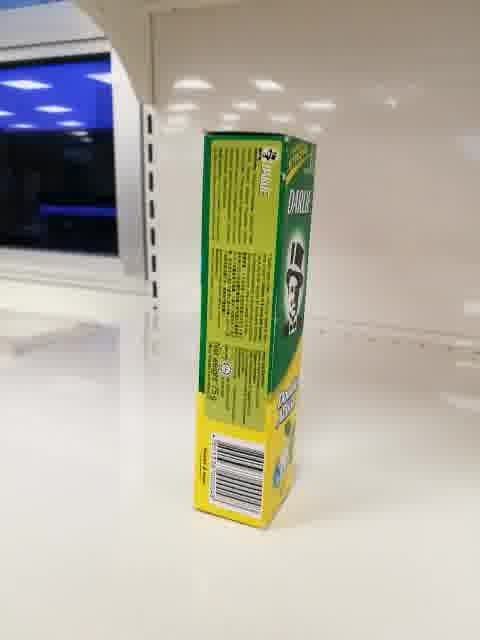toothpaste: (193, 131, 318, 533)
